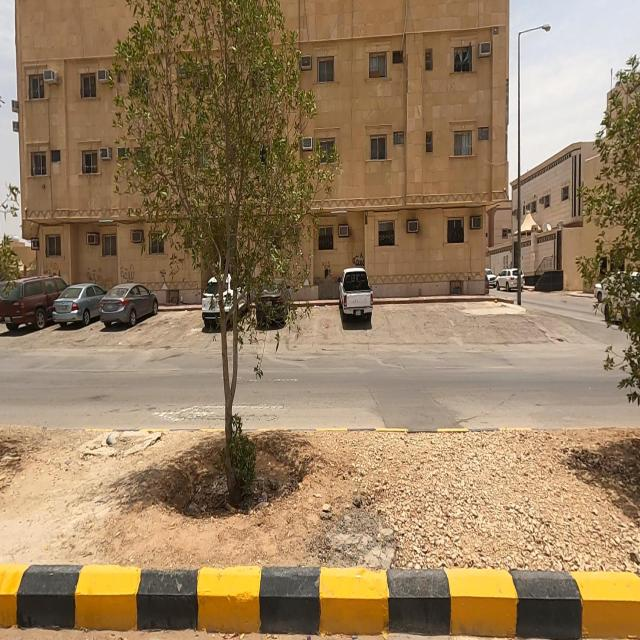Graffiti: (87, 268, 112, 285), (120, 264, 137, 283), (44, 263, 63, 279), (353, 253, 367, 269), (322, 261, 334, 279), (160, 267, 168, 282)
